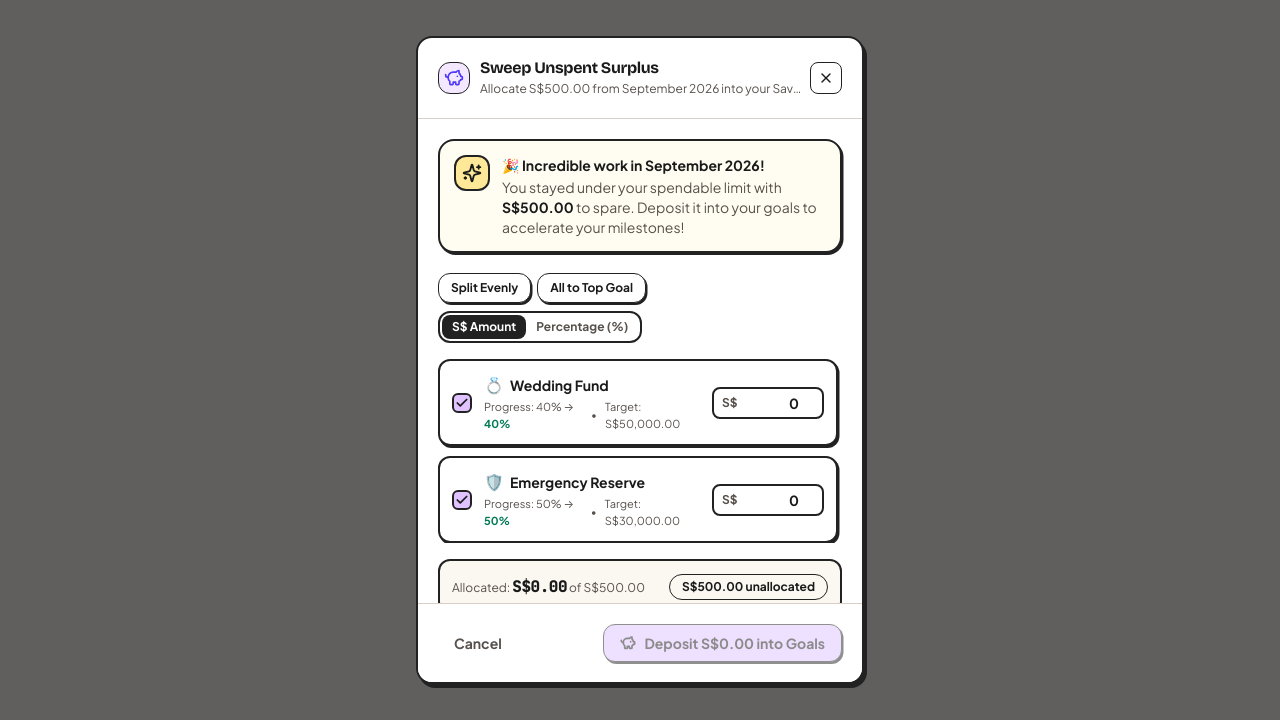
SurplusSweepModal › splits surplus evenly across selected goals when clicking Split Evenly
Click the button "Split Evenly". click: click(485, 288)
box: [438, 273, 531, 303]
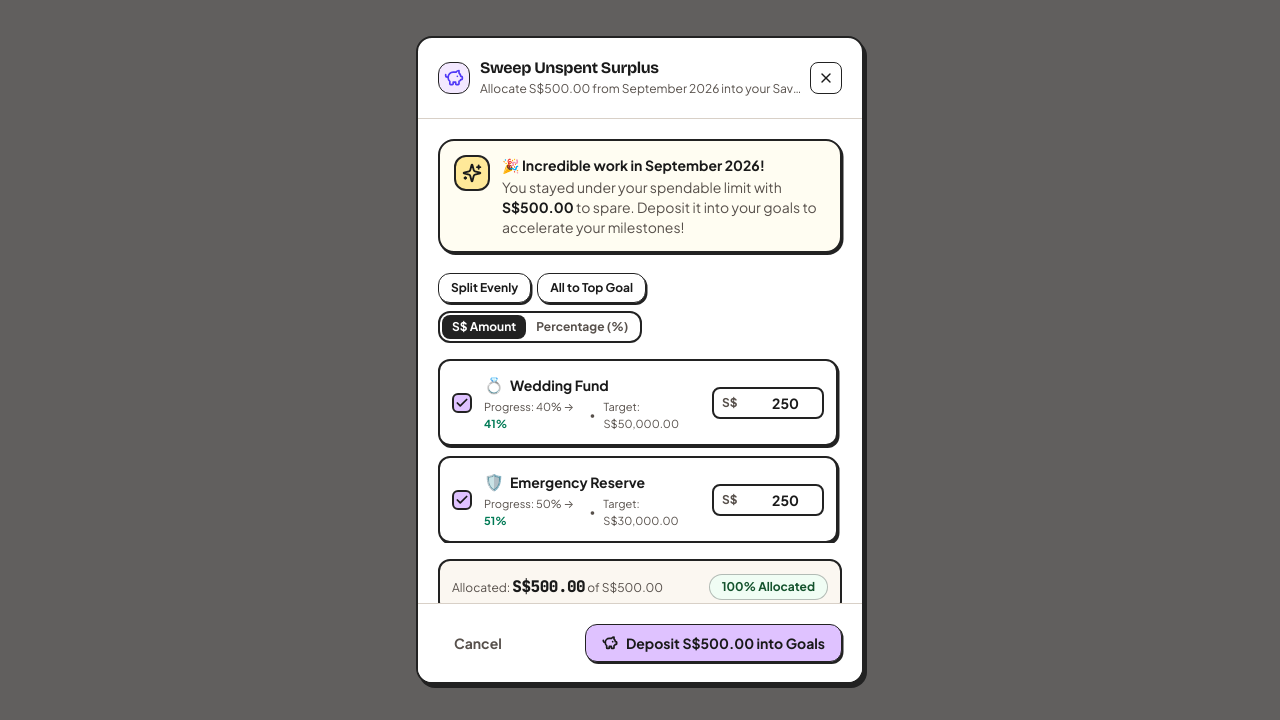
Expected: the number of number fields is 2, [712, 386, 824, 418]; [712, 484, 824, 516]
Expected: the text "100% Allocated" is shown, [722, 579, 815, 595]
